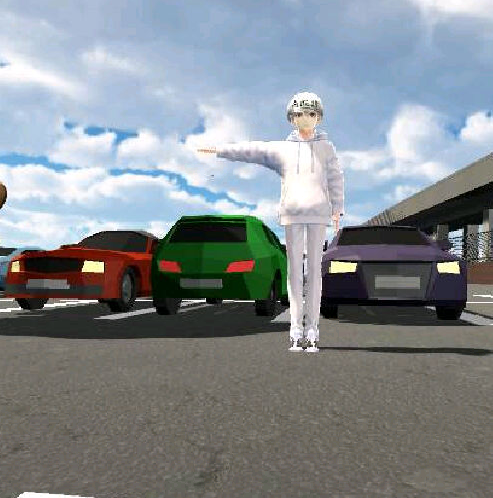singleP_left: (196, 82, 353, 362)
